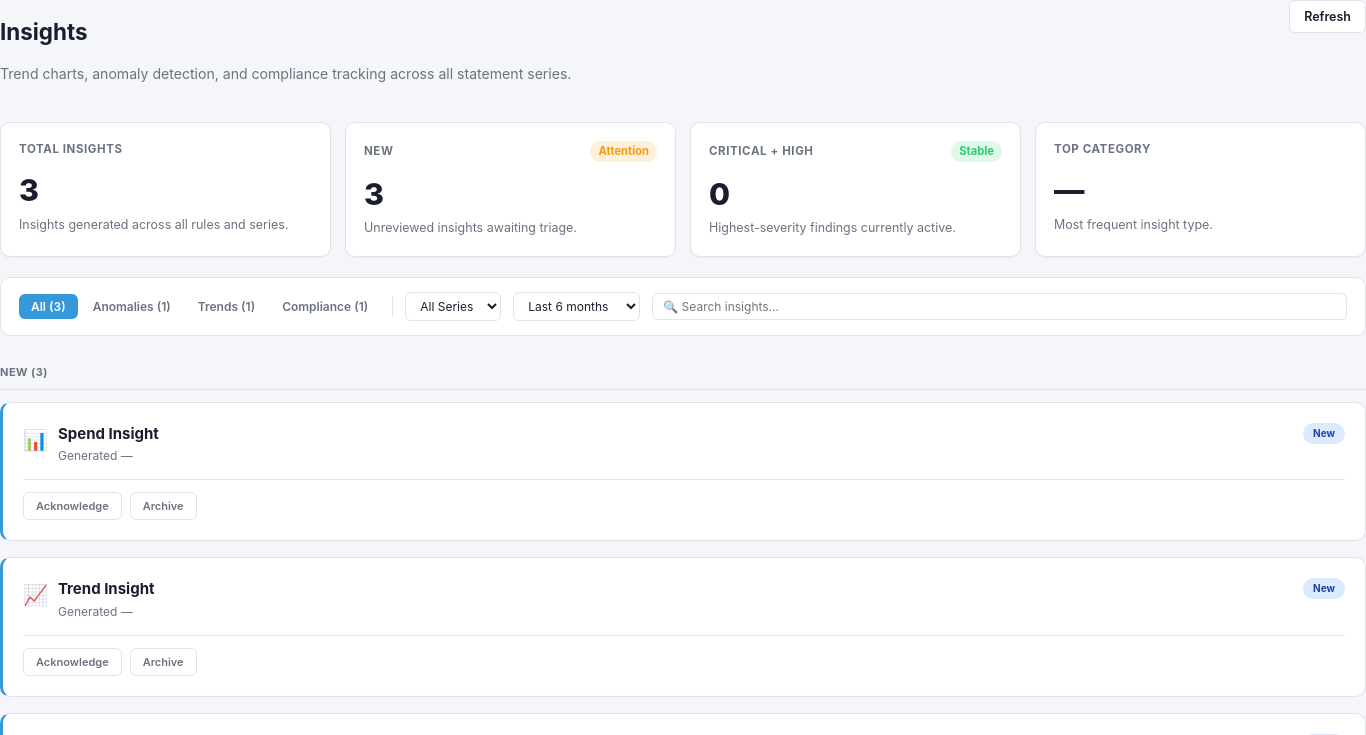
it: Insights page component › filters by tab when clicked
This screenshot has width=1366, height=735.
Expected: the text "Spend Insight" is shown, [58, 424, 159, 442]
// Click on Trends tab
Click the button "Trends (1)".
click(226, 306)  # box [186, 294, 267, 319]
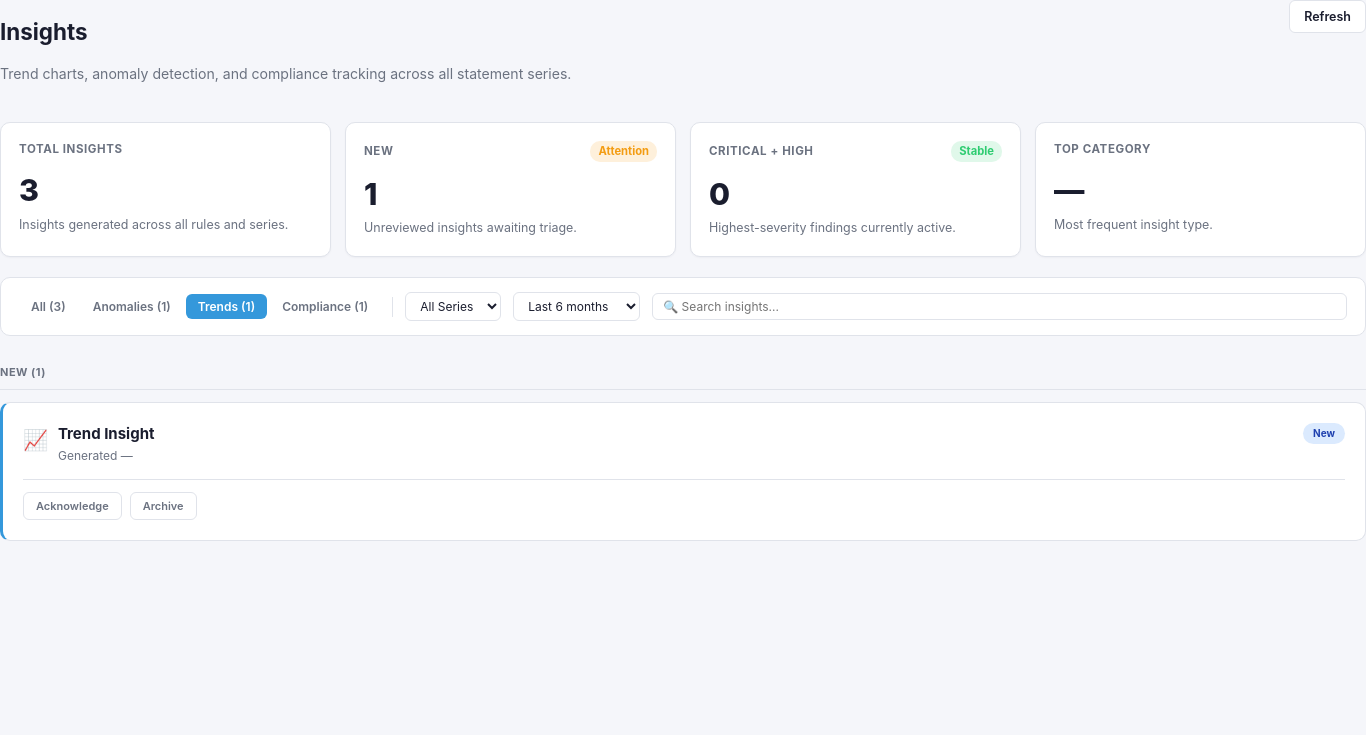
Expected: the text "Trend Insight" is shown, [58, 424, 154, 442]
Expected: the text "Spend Insight" is gone
